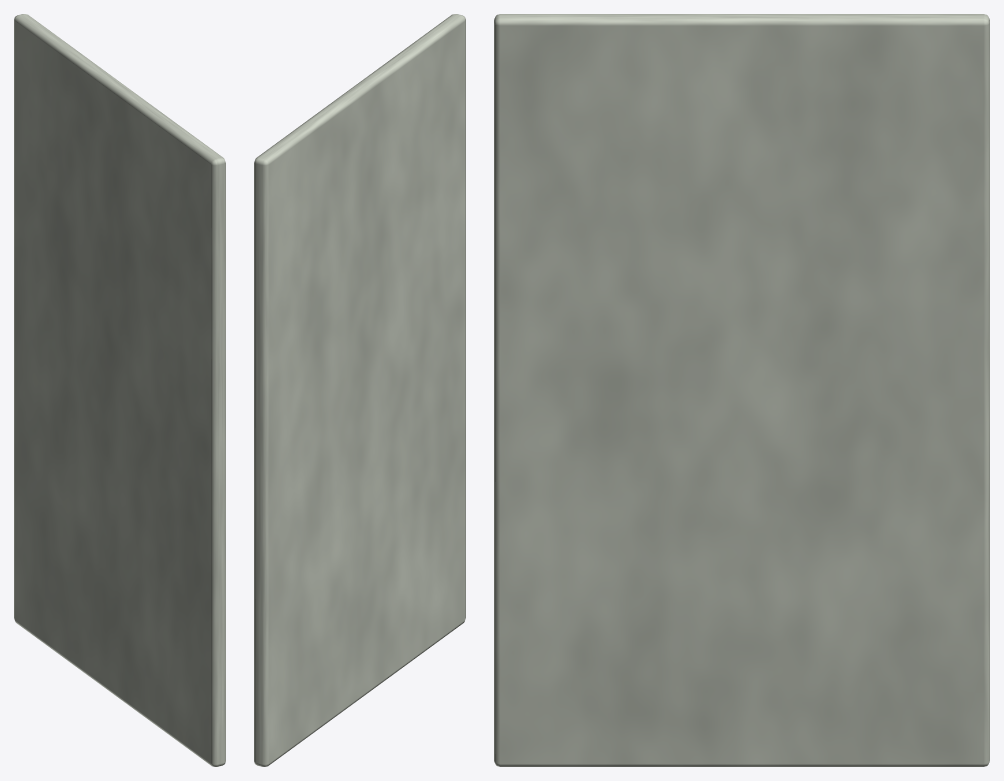
The model's file is Furn_ShowerPartition.fbx.
3 renders of one model, left to right at view 1: azimuth 30°, elevation 25°; view 2: azimuth 150°, elevation 25°; view 3: azimuth 270°, elevation 25°, orthographic. The views are drawn at different scales.
Visible parts, largest first — view 1: Furn_ShowerPartition_Mesh; view 2: Furn_ShowerPartition_Mesh; view 3: Furn_ShowerPartition_Mesh.
Part boxes in pixels (x1,y1,x2,y2): Furn_ShowerPartition_Mesh: (14, 14, 225, 766); Furn_ShowerPartition_Mesh: (254, 14, 465, 766); Furn_ShowerPartition_Mesh: (494, 14, 989, 766).
Bounding box in the file's own units: 0.05 × 2 × 1.2.
1 material, 1 textured.
